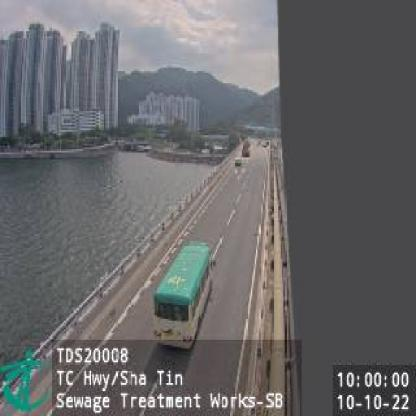Minibus: (154, 242, 215, 352)
